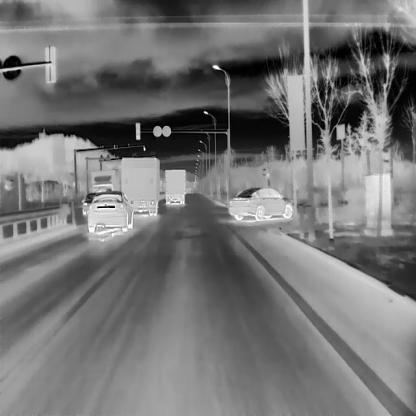car: (229, 187, 296, 220), (122, 157, 159, 215), (87, 190, 134, 232), (89, 158, 124, 212), (164, 169, 184, 204), (80, 191, 99, 214)
